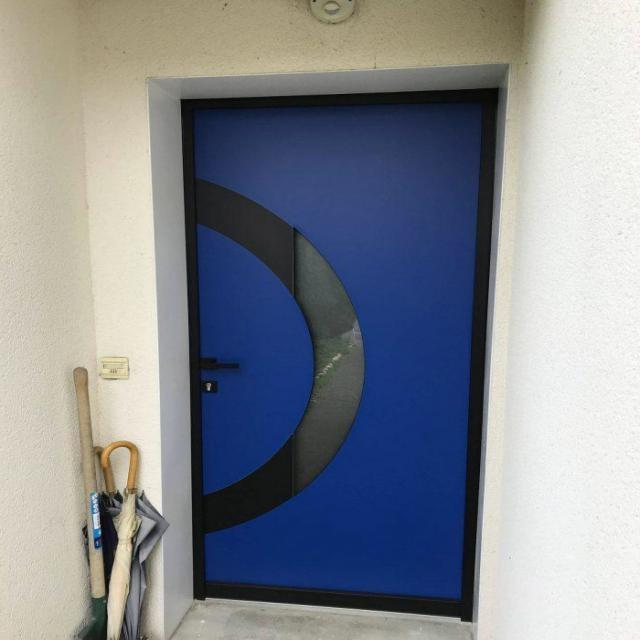door: (180, 84, 499, 618)
